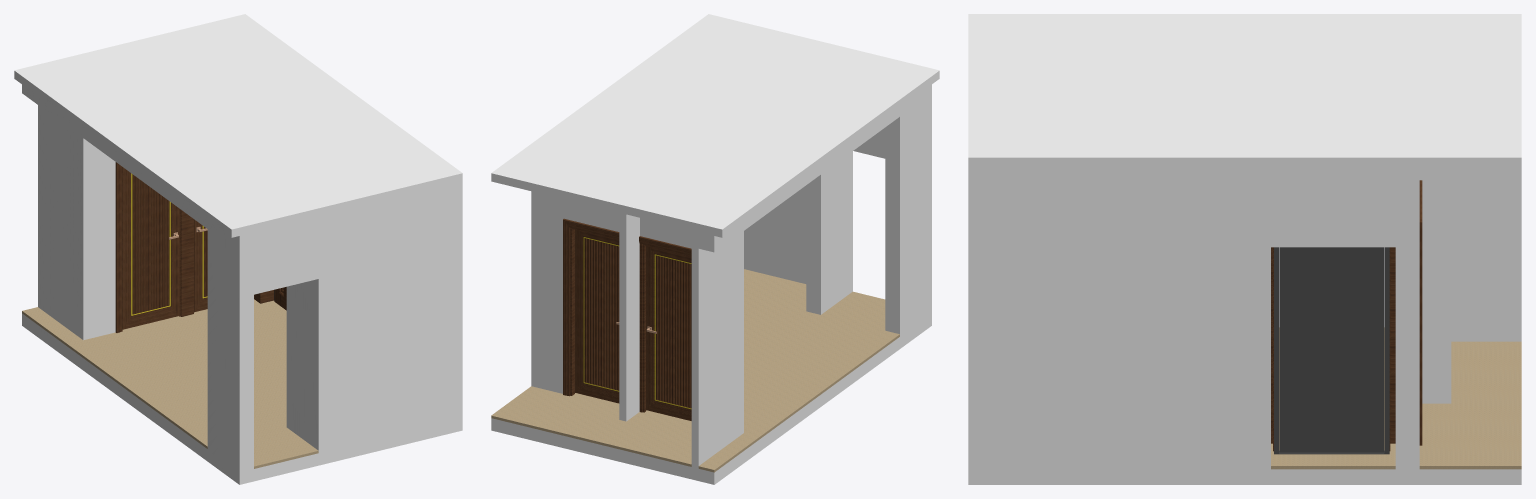
File: интерьер.gltf
3 renders of one model, left to right at view 1: azimuth 30°, elevation 25°; view 2: azimuth 150°, elevation 25°; view 3: azimuth 270°, elevation 25°, orthographic. The views are drawn at different scales.
Bounding box in the file's own units: 2.92 × 3.11 × 4.76.
11 materials, 2 textured.
